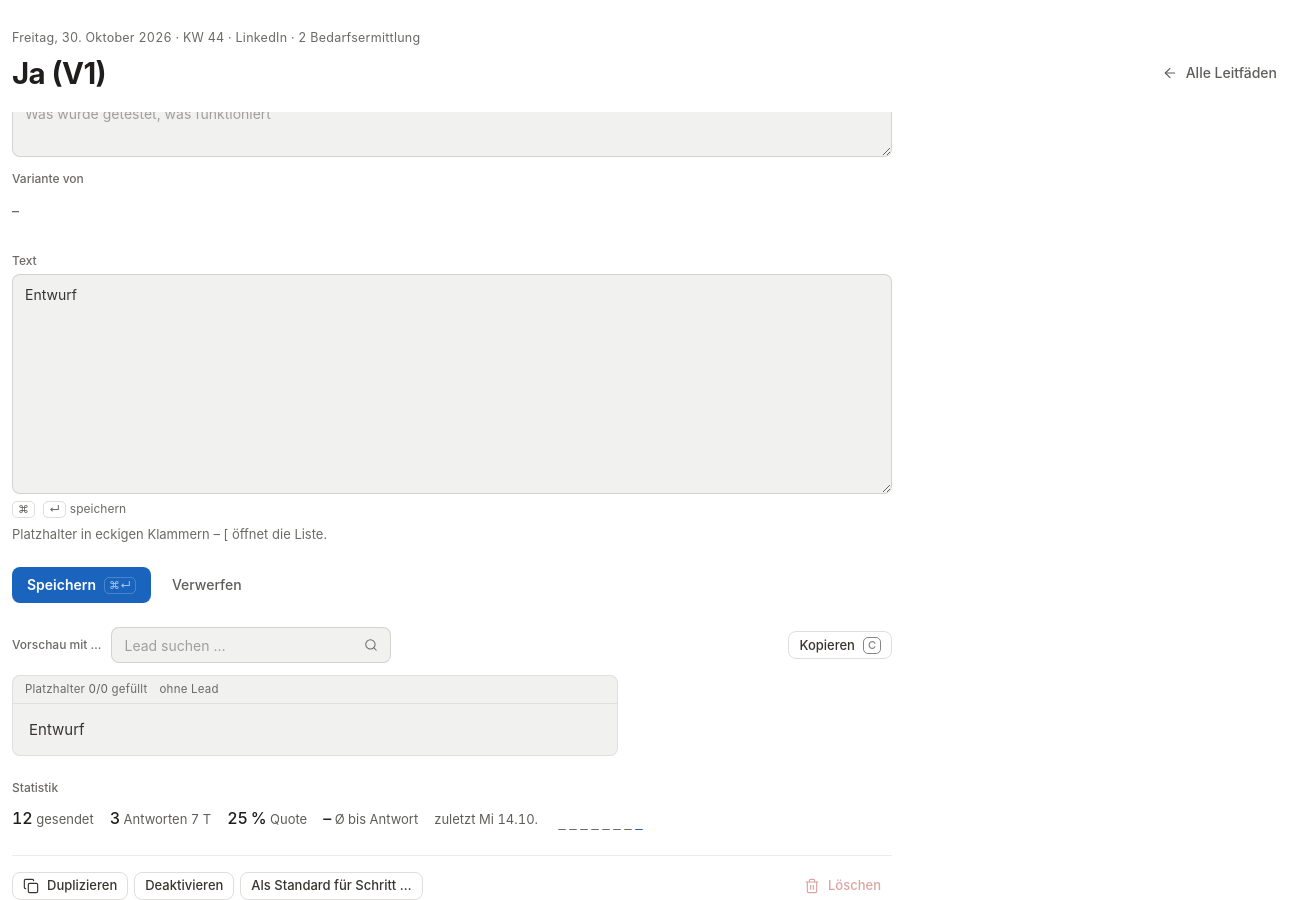
LeitfadenSeite › Entwurf aus localStorage wird beim Öffnen übernommen; „Verwerfen“ stellt die Vorlage her
(page scrolled)
Expected: the text box labelled "Text" holds "Entwurf", x1=12 y1=274 x2=892 y2=494
Click the button "Verwerfen". click: [207, 585]
box: x1=157 y1=567 x2=257 y2=603
(page scrolled)
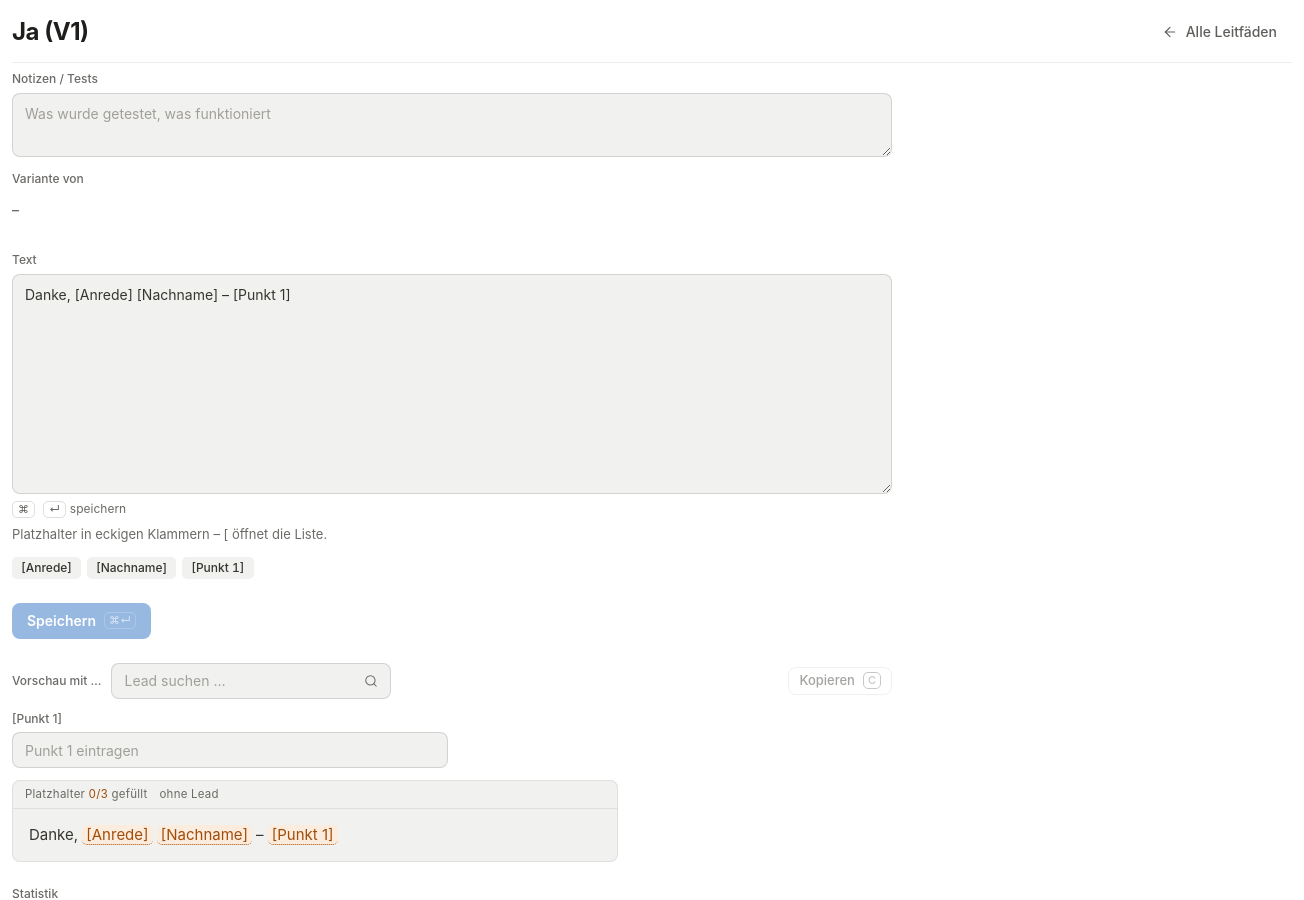
Now the text box labelled "Text" holds "Danke, [Anrede] [Nachname] – [Punkt 1]", box x1=12 y1=274 x2=892 y2=494
